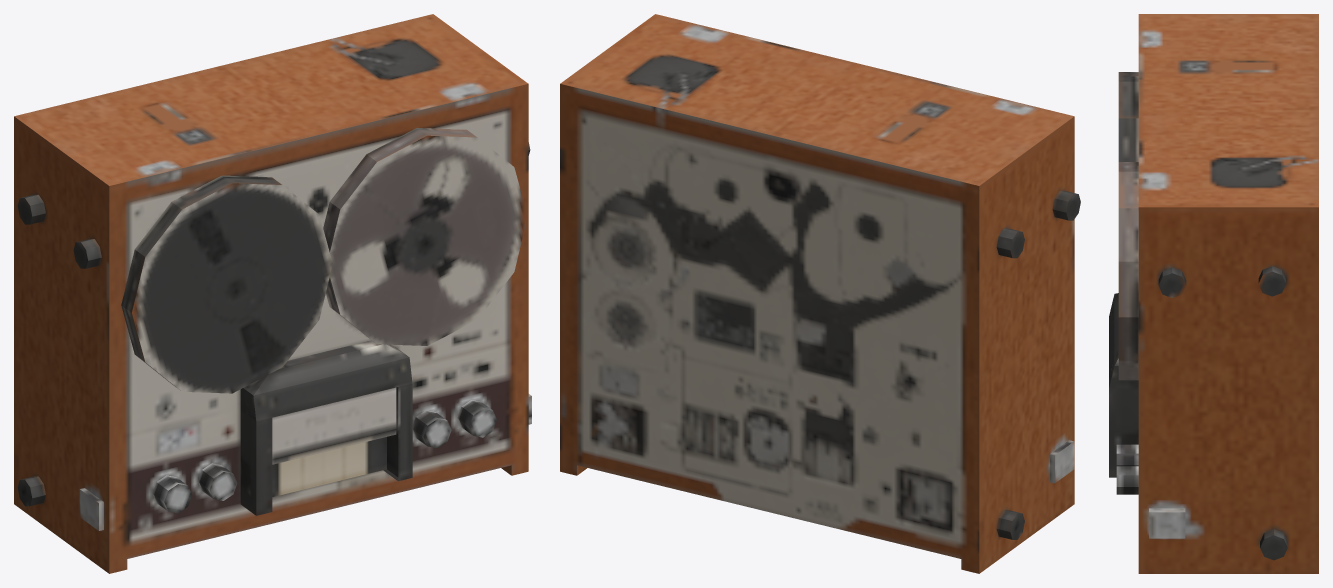
The model's file is ReelTapeRecorder.fbx.
3 renders of one model, left to right at view 1: azimuth 30°, elevation 25°; view 2: azimuth 150°, elevation 25°; view 3: azimuth 270°, elevation 25°, orthographic. The views are drawn at different scales.
Visible parts, largest first — view 1: ReelTapeRecorder_Low; view 2: ReelTapeRecorder_Low; view 3: ReelTapeRecorder_Low.
Part boxes in pixels (bbox=[...]): ReelTapeRecorder_Low: bbox=[14, 14, 531, 573]; ReelTapeRecorder_Low: bbox=[560, 14, 1080, 573]; ReelTapeRecorder_Low: bbox=[1109, 14, 1318, 573].
Size of the model in its own units: 0.4162 by 0.3456 by 0.1794.
